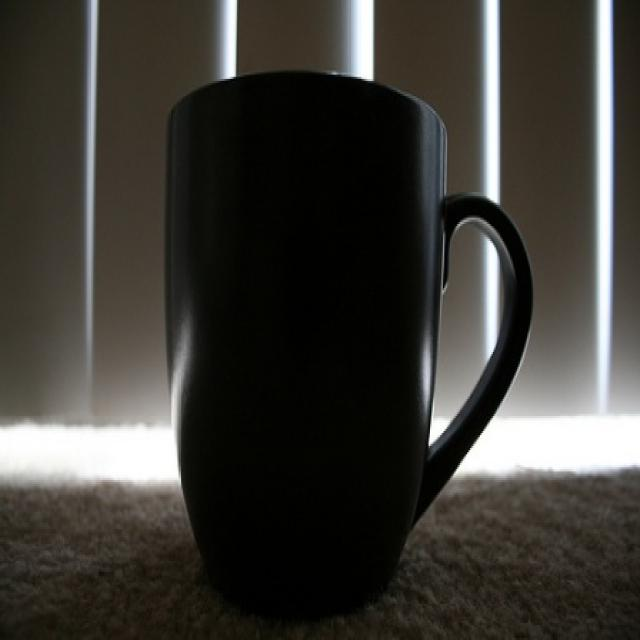Cup: (142, 50, 535, 632)
